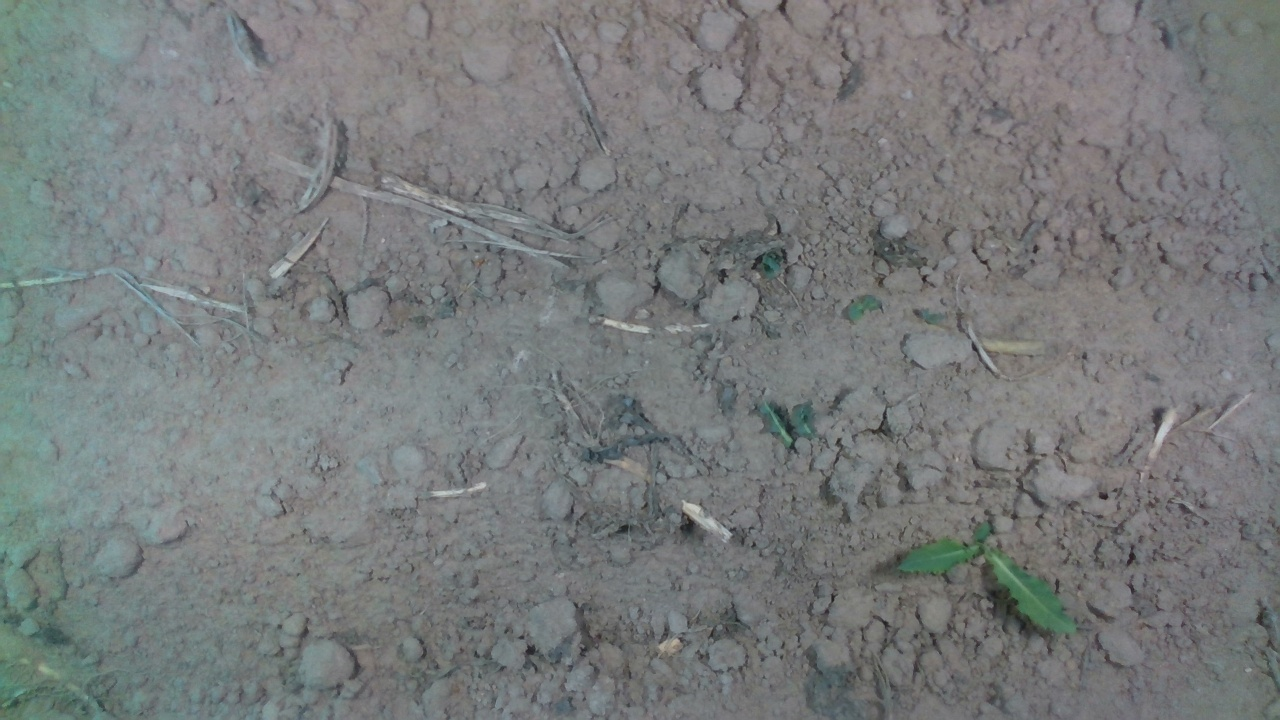weed: (895, 515, 1077, 637)
